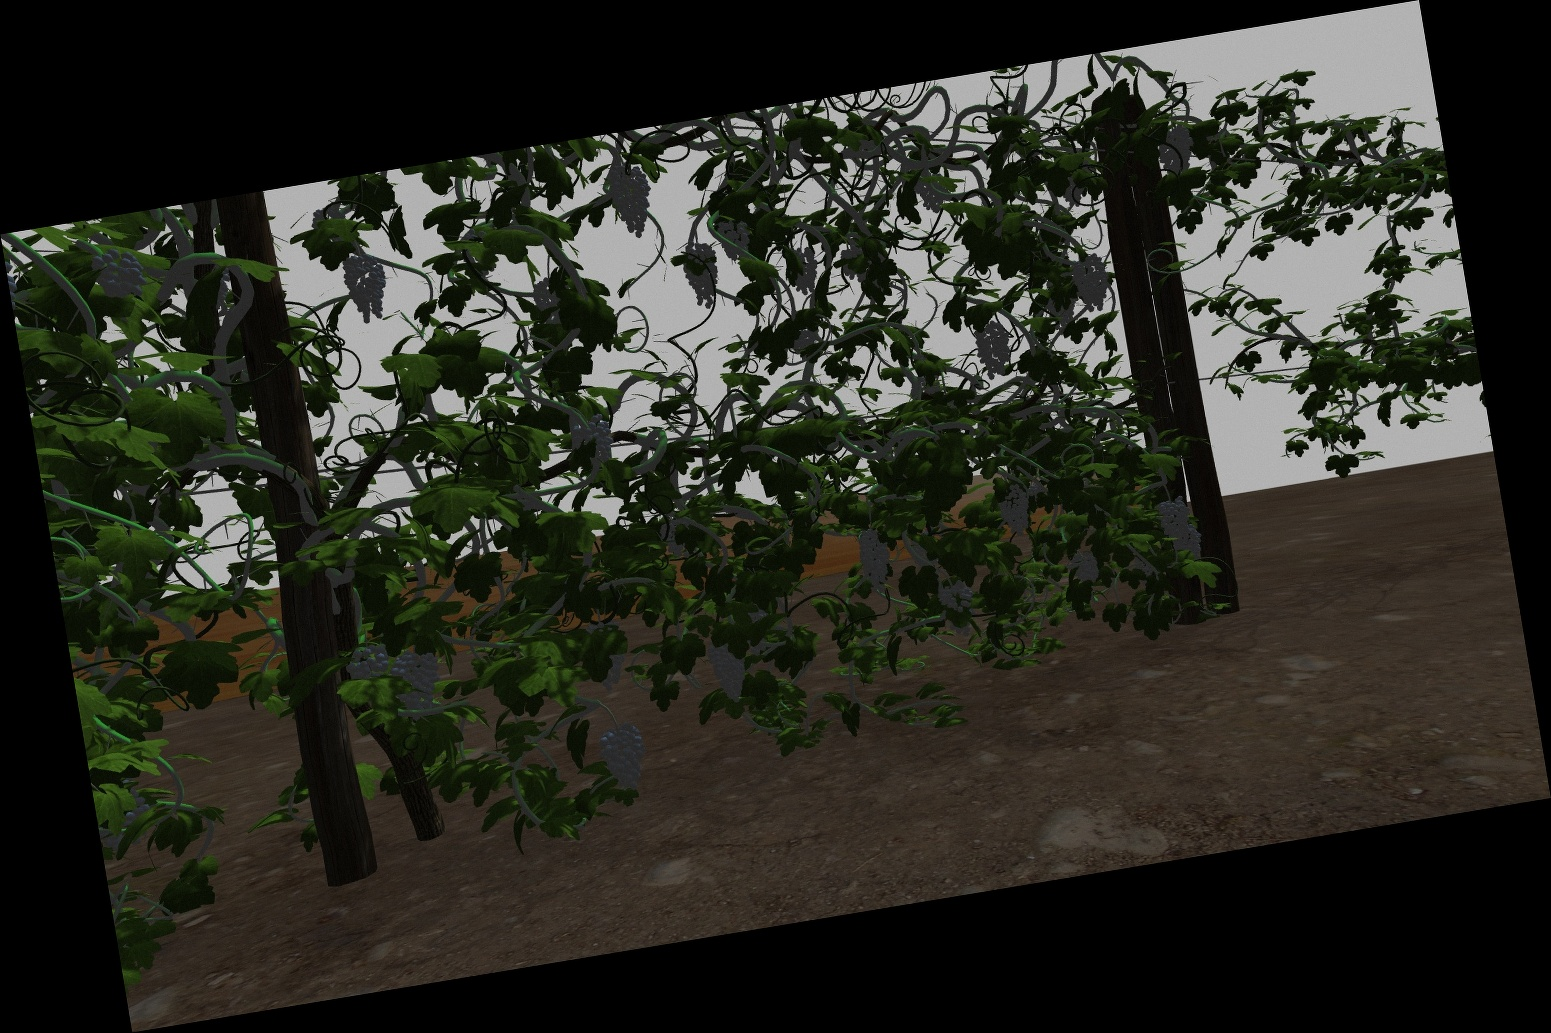grape: (607, 161, 651, 239), (392, 651, 438, 721), (710, 638, 751, 706), (604, 725, 644, 794), (681, 243, 722, 309), (347, 255, 385, 325), (572, 414, 614, 476), (1070, 252, 1112, 315), (974, 319, 1016, 379), (1155, 125, 1197, 183), (90, 248, 139, 297), (858, 528, 891, 588), (1000, 484, 1034, 535), (917, 171, 952, 214), (717, 218, 750, 263), (345, 646, 388, 679), (788, 248, 819, 294), (1159, 498, 1189, 538), (1171, 531, 1205, 566), (1070, 549, 1099, 586), (940, 581, 975, 611)
